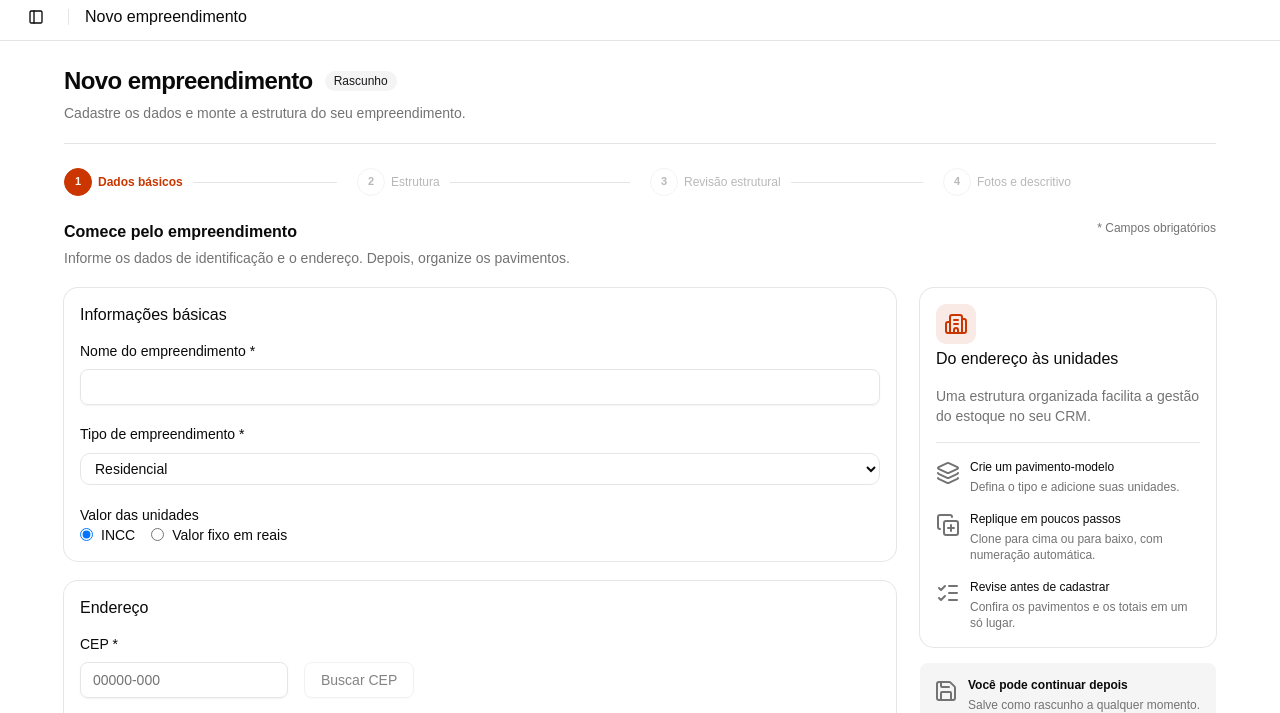
it: BuildingWizardPage › fills address from cep lookup
In the field labelled "CEP *": (184, 680) [80, 662, 288, 698], type "01310100"
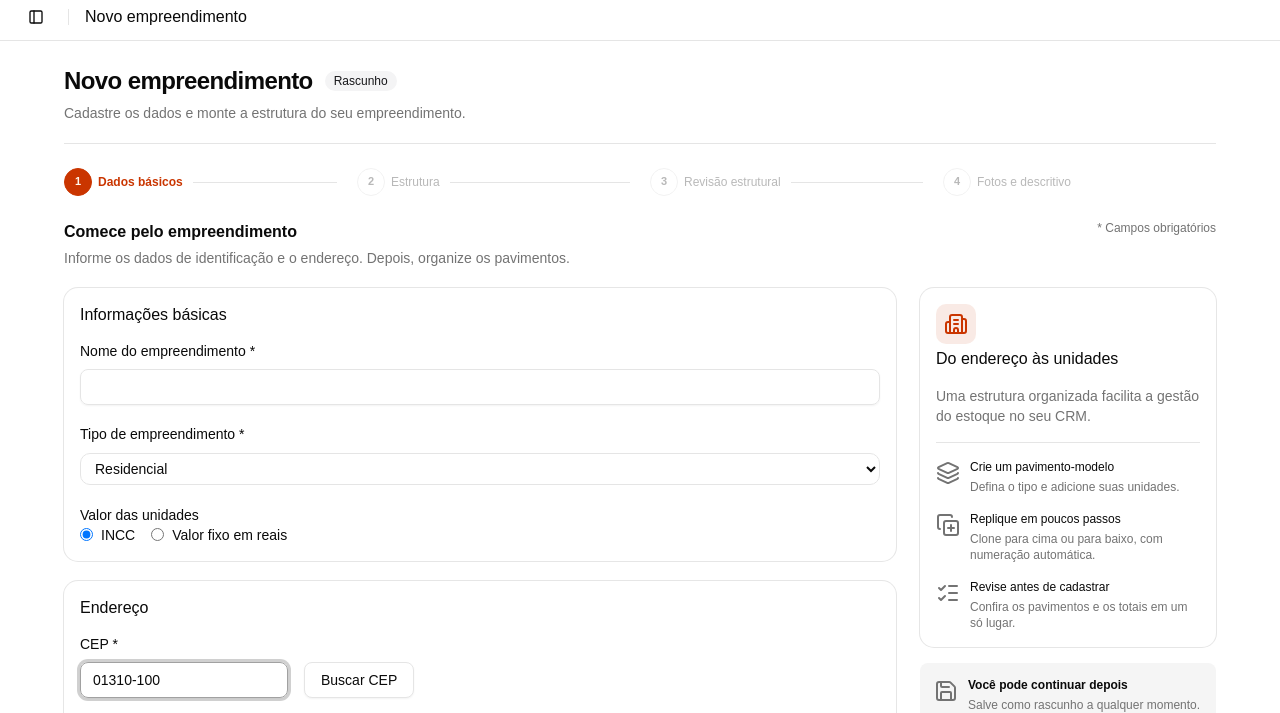
Click the button "Buscar CEP": (359, 680) [304, 662, 414, 698]
(page scrolled)
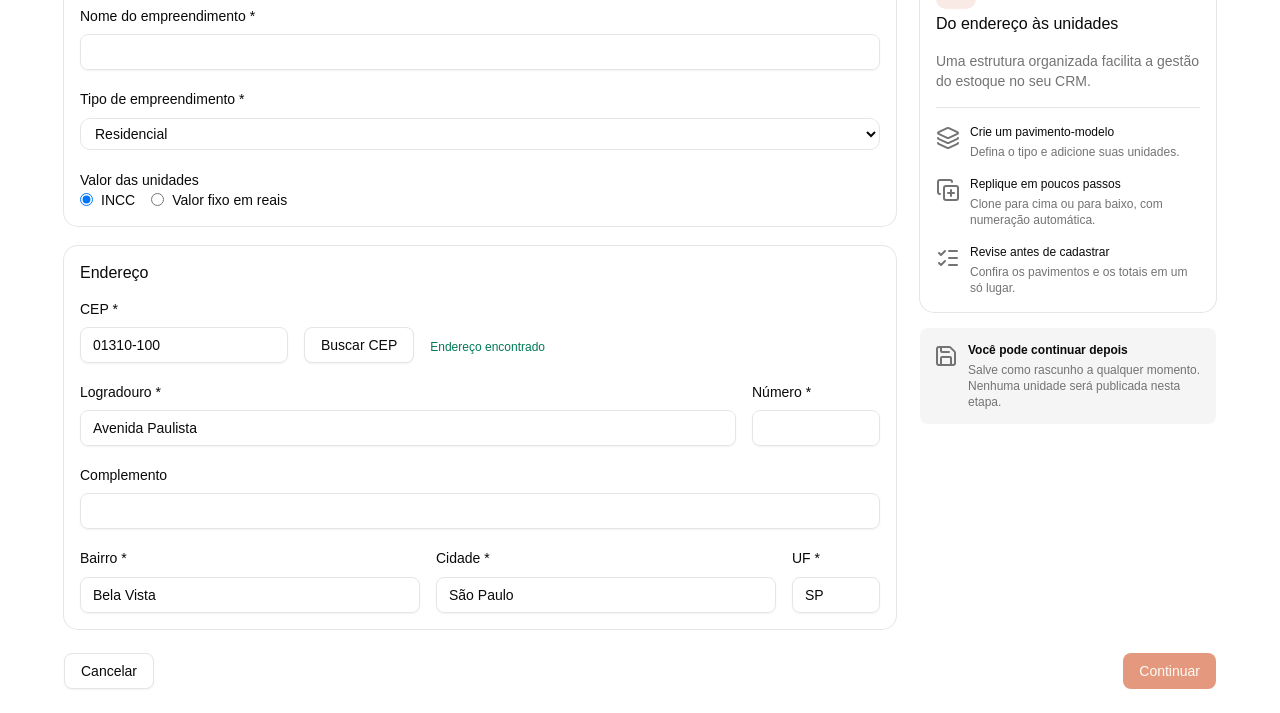
Check: the field labelled "Logradouro *" holds "Avenida Paulista", box [80, 410, 736, 446]
Check: the field labelled "Cidade *" holds "São Paulo", box [436, 576, 776, 612]
Check: the field labelled "UF *" holds "SP", box [792, 576, 880, 612]
